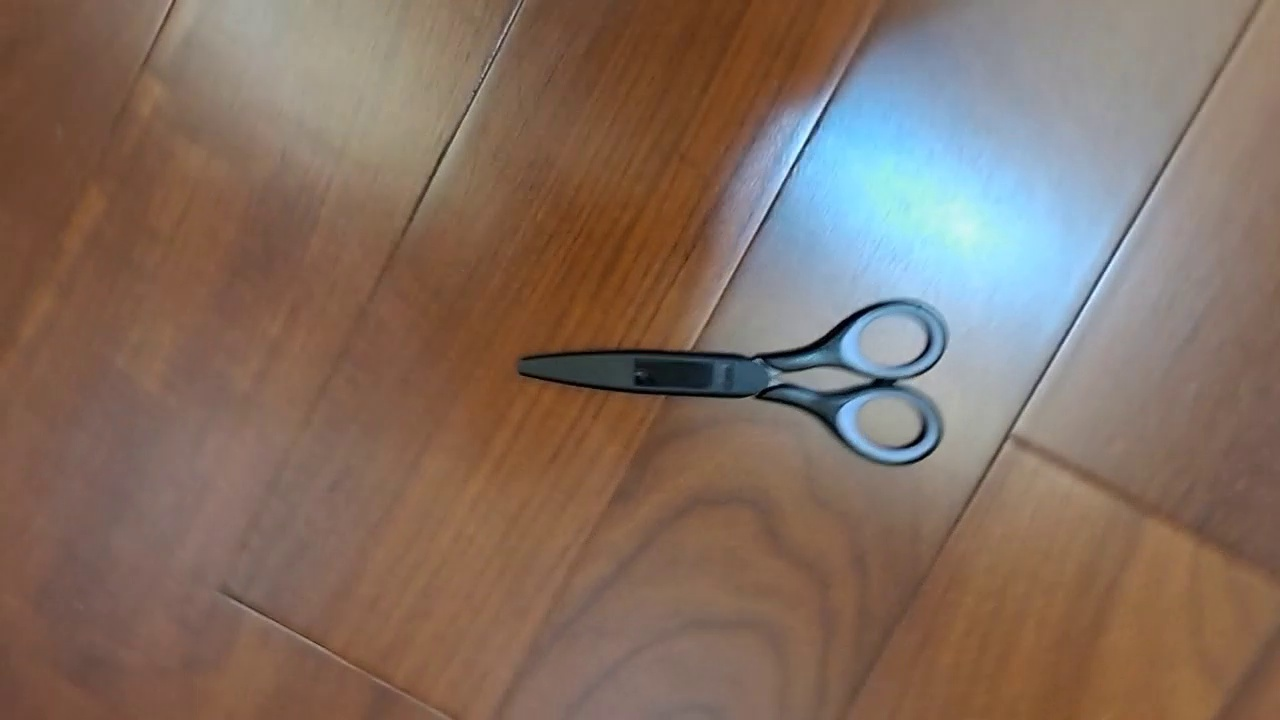scissors: (517, 297, 949, 467)
